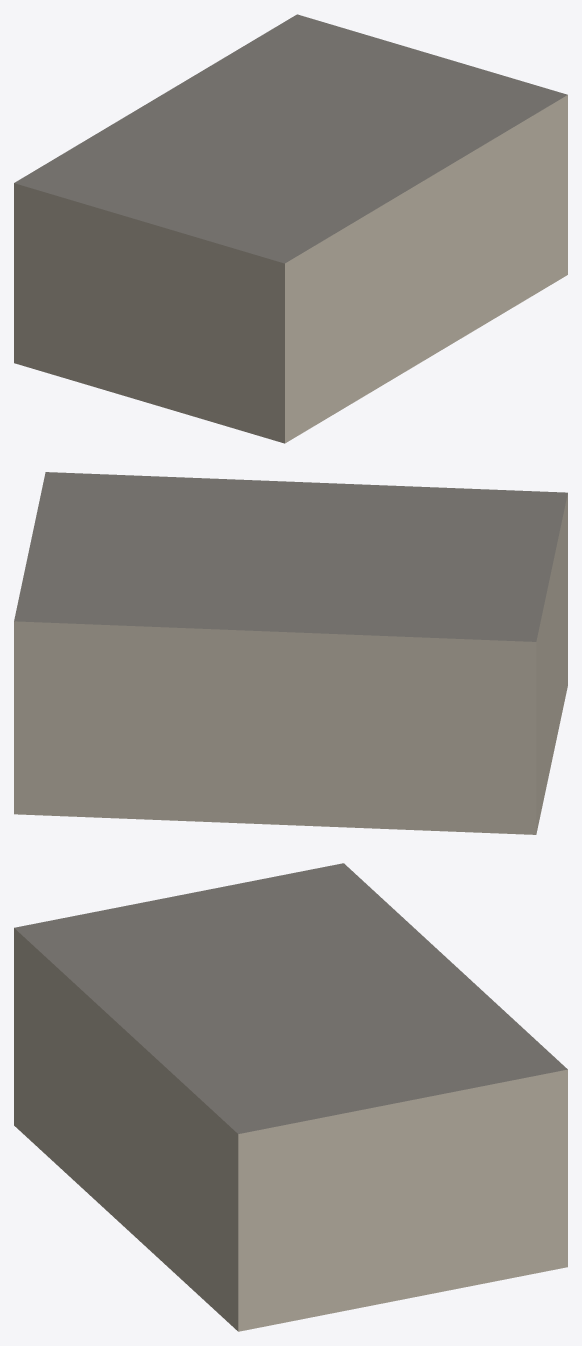
3 views of the same model, one above another, from view 1: azimuth 30°, elevation 25°; view 2: azimuth 150°, elevation 25°; view 3: azimuth 270°, elevation 25° (orthographic). The views are drawn at different scales.
Parts seen in each view (by area): view 1: HP-w372180506; view 2: HP-w372180506; view 3: HP-w372180506.
Part boxes in pixels (x1,y1,x2,y2): HP-w372180506: (14,14,567,443); HP-w372180506: (14,472,567,834); HP-w372180506: (14,863,567,1331).
Size of the model in its own units: 52.93 by 18 by 45.72.
